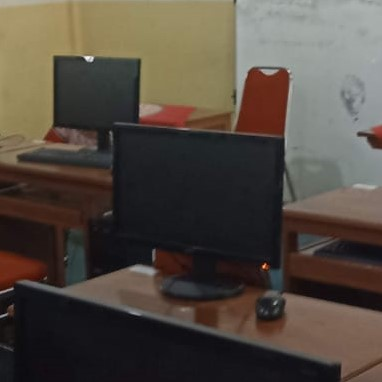monitor: (111, 122, 285, 271), (17, 55, 141, 169), (0, 179, 27, 194)
